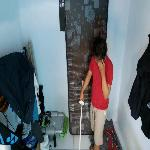Pedang: (70, 74, 90, 150)
